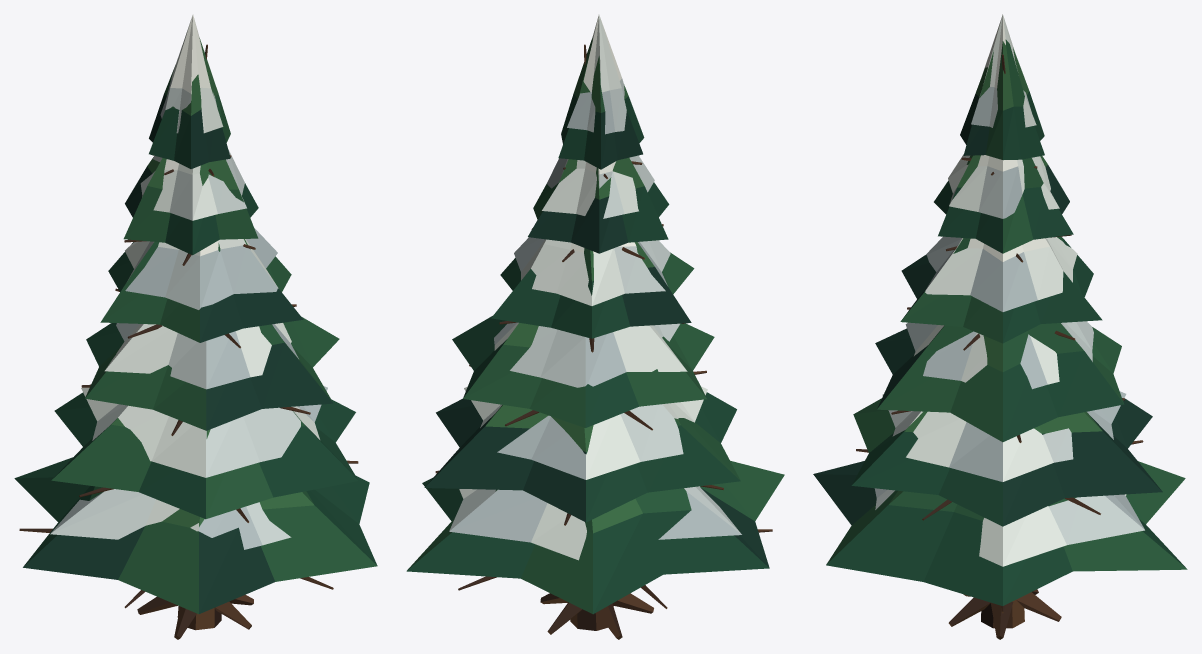
File: tree_spruce_snow.obj
3 views of the same model, side by side, from view 1: azimuth 30°, elevation 25°; view 2: azimuth 150°, elevation 25°; view 3: azimuth 270°, elevation 25° (orthographic).
Parts seen in each view (by area): view 1: tree_spruce_snow; view 2: tree_spruce_snow; view 3: tree_spruce_snow.
Boxes of the visible parts, x1=… form: tree_spruce_snow: x1=14, y1=14, x2=377, y2=639; tree_spruce_snow: x1=406, y1=14, x2=784, y2=639; tree_spruce_snow: x1=813, y1=14, x2=1187, y2=639.
Size of the model in its own units: 388 by 650 by 366.
Materials: 1 (1 with a texture image).
